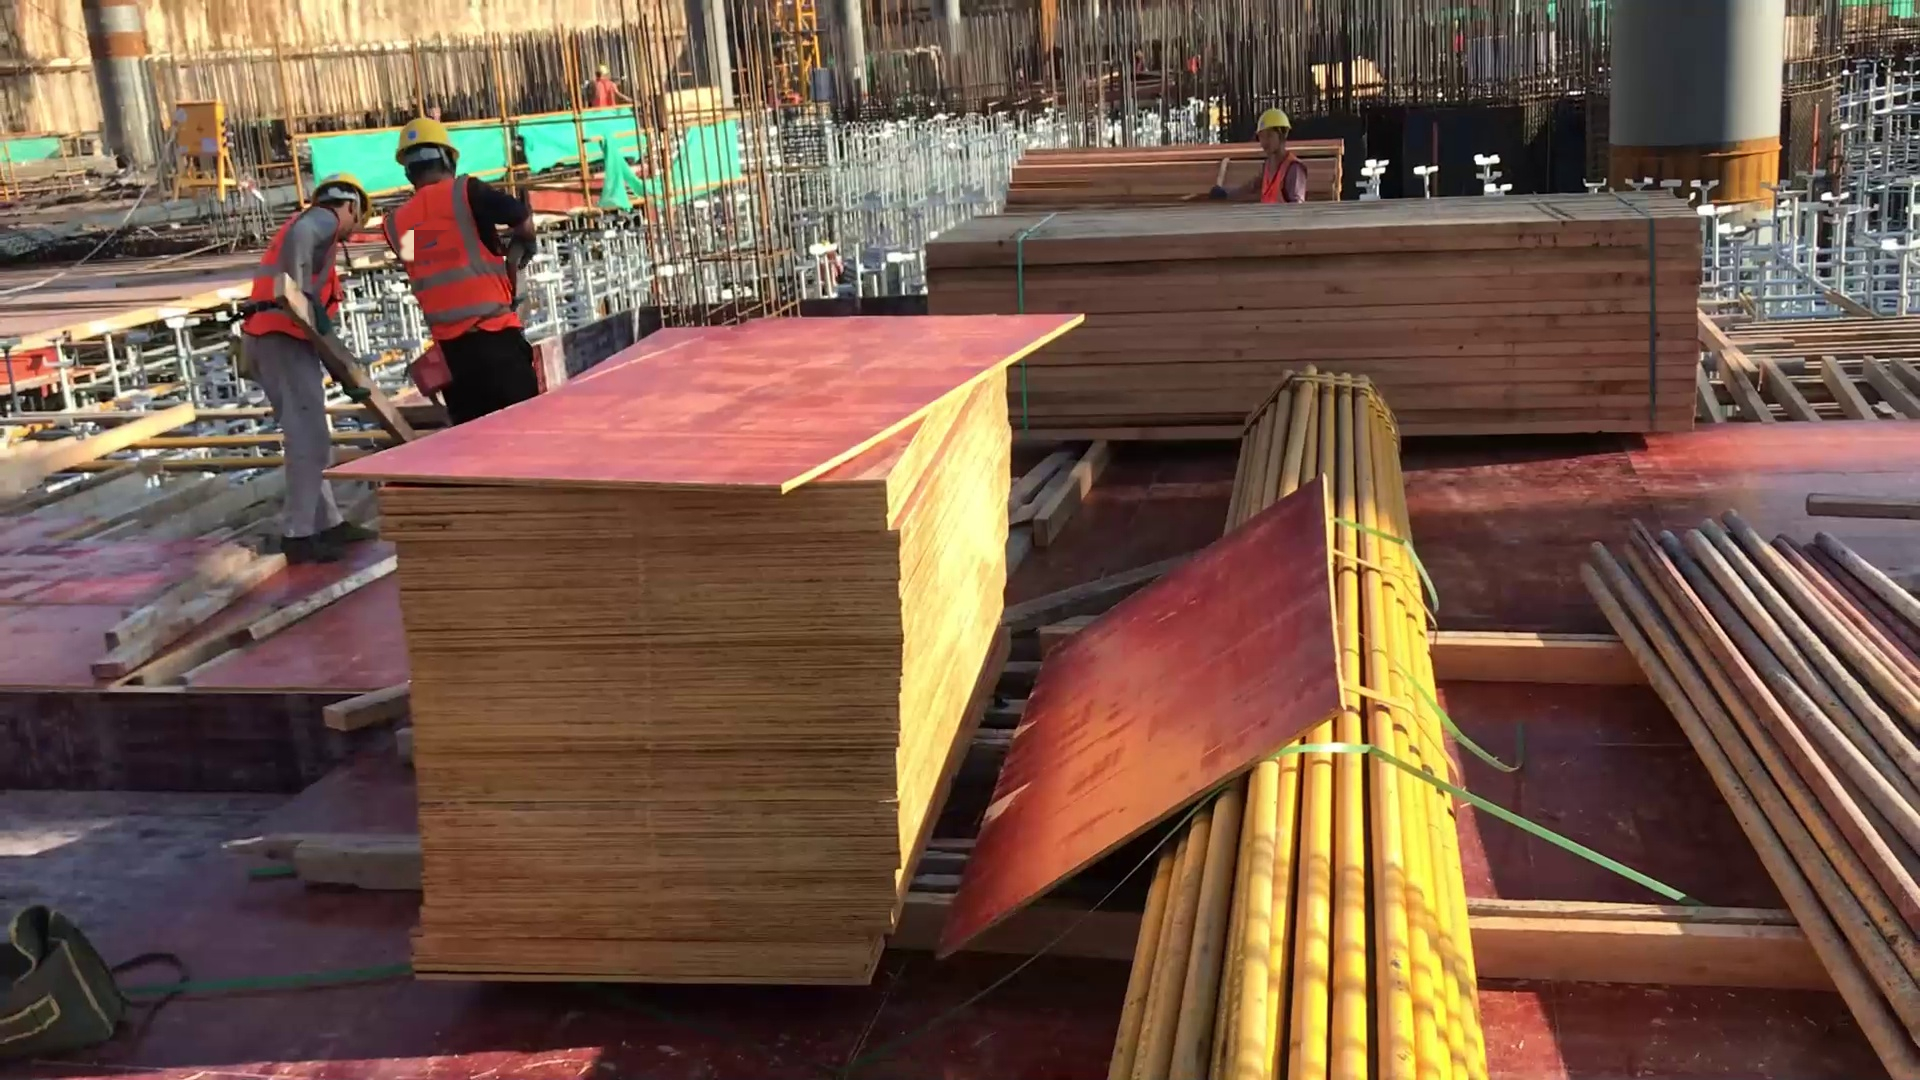board: (366, 303, 1120, 979)
ebox: (161, 92, 231, 199)
helmet: (381, 103, 479, 172), (1243, 91, 1304, 133)
person: (236, 160, 398, 561), (381, 111, 561, 426), (1235, 104, 1309, 210)
rebar: (1567, 496, 1920, 1069)
vest: (382, 172, 517, 338), (243, 203, 340, 333), (1255, 145, 1308, 216)
wood: (909, 145, 1678, 461)
